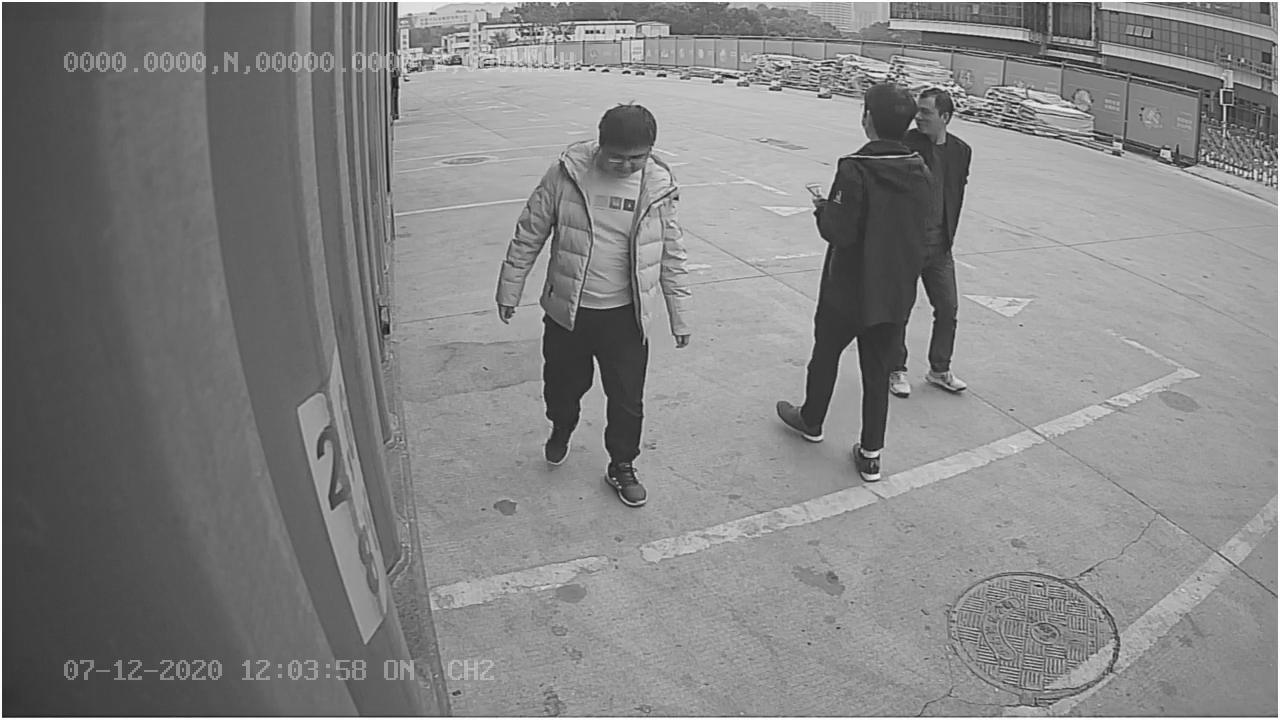person: (493, 89, 695, 510)
